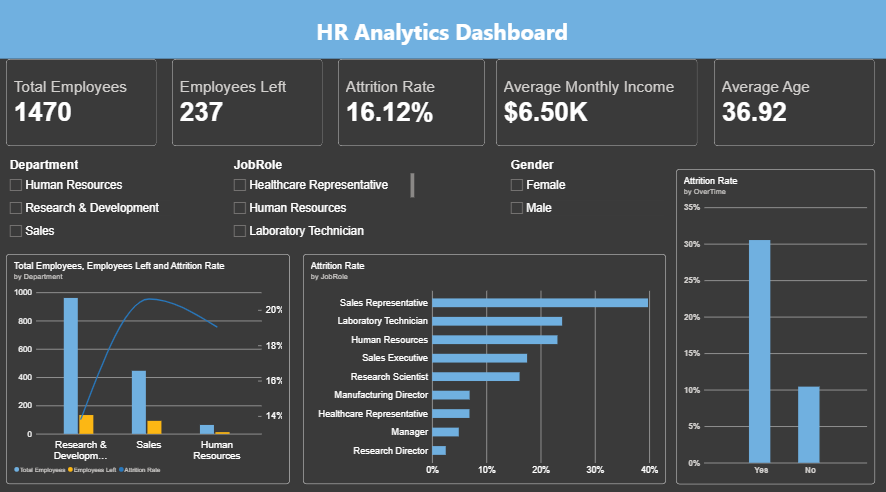

The dashboard page shown, as its layout file describes it:
{"tool":"powerbi","page":{"name":"Overview","canvas":[1920,1080],"ordinal":0},"visuals":[{"type":"cardVisual","fields":{"Data":["HR_anlytics.Total Employees"]},"box":[18.1,139.7,325,189],"z":0},{"type":"cardVisual","fields":{"Data":["HR_anlytics.Employees Left"]},"box":[375.2,139.7,325,189],"z":1},{"type":"cardVisual","fields":{"Data":["HR_anlytics.Attrition Rate"]},"box":[734.9,139.7,317.5,189],"z":2},{"type":"cardVisual","fields":{"Data":["HR_anlytics.Average Monthly Income"]},"box":[1076.4,139.7,435.9,189],"z":3},{"type":"cardVisual","fields":{"Data":["HR_anlytics.Average Age"]},"box":[1547.4,139.7,347.7,189],"z":4},{"type":"shape","box":[0,0,1920,139.7],"z":9},{"type":"textbox","box":[0,0,1920,139.7],"z":10},{"type":"slicer","fields":{"Values":["HR_anlytics.Department"]},"box":[18.1,354.5,357.1,186.3],"z":11},{"type":"slicer","fields":{"Values":["HR_anlytics.JobRole"]},"box":[502,354.5,398.5,186.3],"z":12},{"type":"slicer","fields":{"Values":["HR_anlytics.Gender"]},"box":[1099.7,354.5,339,155.3],"z":13},{"type":"clusteredColumnChart","fields":{"Category":["HR_anlytics.OverTime"],"Y":["HR_anlytics.Attrition Rate"]},"box":[1464.6,377.8,429.5,680.5],"z":14},{"type":"lineClusteredColumnComboChart","fields":{"Category":["HR_anlytics.Department"],"Y":["HR_anlytics.Total Employees","HR_anlytics.Employees Left"],"Y2":["HR_anlytics.Attrition Rate"]},"box":[18.1,561.5,613.3,496.8],"z":15},{"type":"clusteredBarChart","fields":{"Category":["HR_anlytics.JobRole"],"Y":["HR_anlytics.Attrition Rate"]},"box":[659.8,561.5,784,496.8],"z":16}]}

Visuals, with their boxes in screenshot pixels (x1, y1, x2, y2), scaled from the page's 1920x1080 canvas onto the 886x492 screenshot:
cardVisual - HR_anlytics.Total Employees: x1=8 y1=64 x2=158 y2=150
cardVisual - HR_anlytics.Employees Left: x1=173 y1=64 x2=323 y2=150
cardVisual - HR_anlytics.Attrition Rate: x1=339 y1=64 x2=486 y2=150
cardVisual - HR_anlytics.Average Monthly Income: x1=497 y1=64 x2=698 y2=150
cardVisual - HR_anlytics.Average Age: x1=714 y1=64 x2=875 y2=150
shape: x1=0 y1=0 x2=885 y2=64
textbox: x1=0 y1=0 x2=885 y2=64
slicer - HR_anlytics.Department: x1=8 y1=161 x2=173 y2=246
slicer - HR_anlytics.JobRole: x1=232 y1=161 x2=416 y2=246
slicer - HR_anlytics.Gender: x1=507 y1=161 x2=664 y2=232
clusteredColumnChart - HR_anlytics.OverTime x HR_anlytics.Attrition Rate: x1=676 y1=172 x2=874 y2=482
lineClusteredColumnComboChart - HR_anlytics.Department x HR_anlytics.Total Employees: x1=8 y1=256 x2=291 y2=482
clusteredBarChart - HR_anlytics.JobRole x HR_anlytics.Attrition Rate: x1=304 y1=256 x2=666 y2=482
